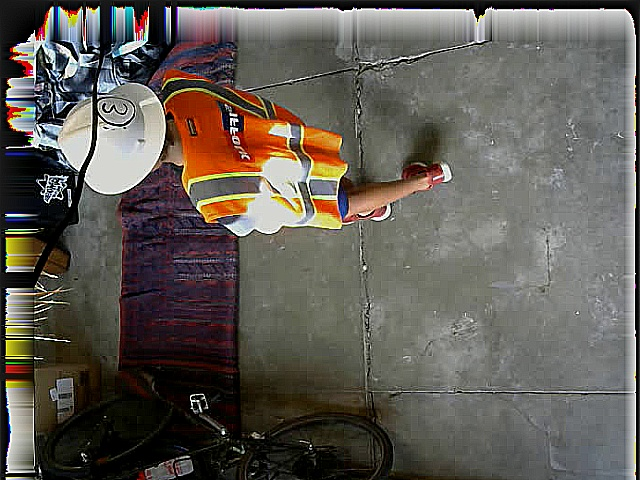three: (95, 96, 135, 125)
